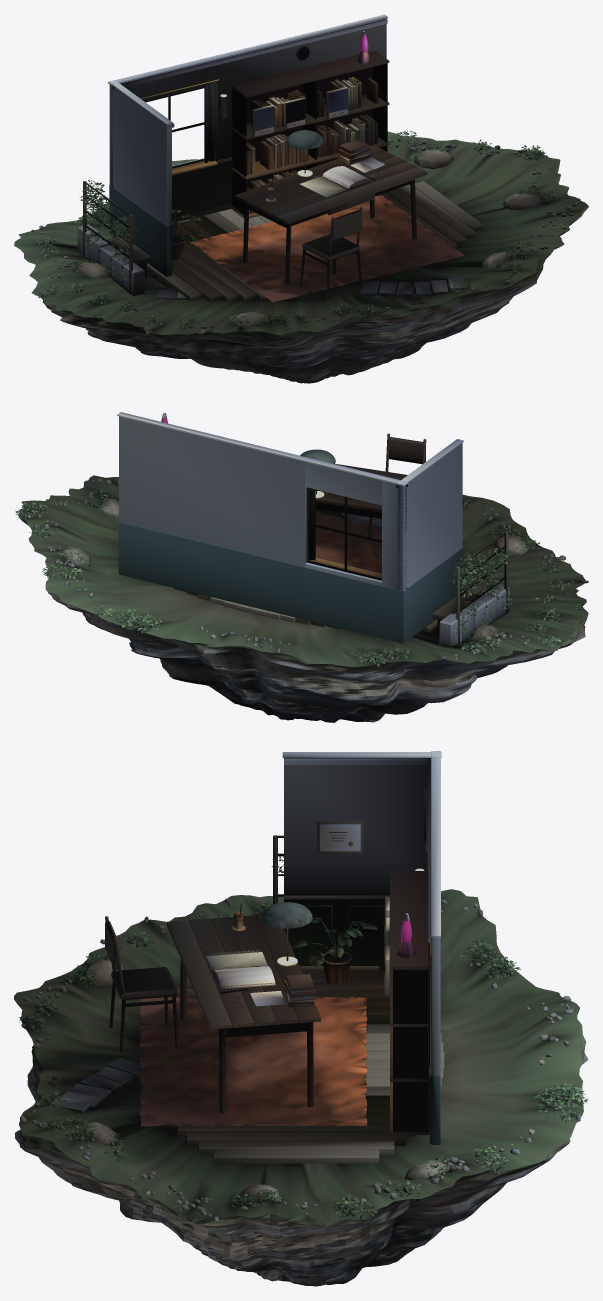
Rendered from flight-writing-7c9baee3.glb.
3 views of the same model, one above another, from view 1: azimuth 30°, elevation 25°; view 2: azimuth 150°, elevation 25°; view 3: azimuth 270°, elevation 25° (orthographic). The views are drawn at different scales.
Parts seen in each view (by area): view 1: Writing island · flight.001; view 2: Writing island · flight.001; view 3: Writing island · flight.001.
Boxes of the visible parts, x1,y1,x2,y2 form: Writing island · flight.001: [14, 14, 588, 383]; Writing island · flight.001: [15, 412, 588, 722]; Writing island · flight.001: [14, 751, 588, 1286].
Bounding box in the file's own units: 11.74 × 6.45 × 8.16.
